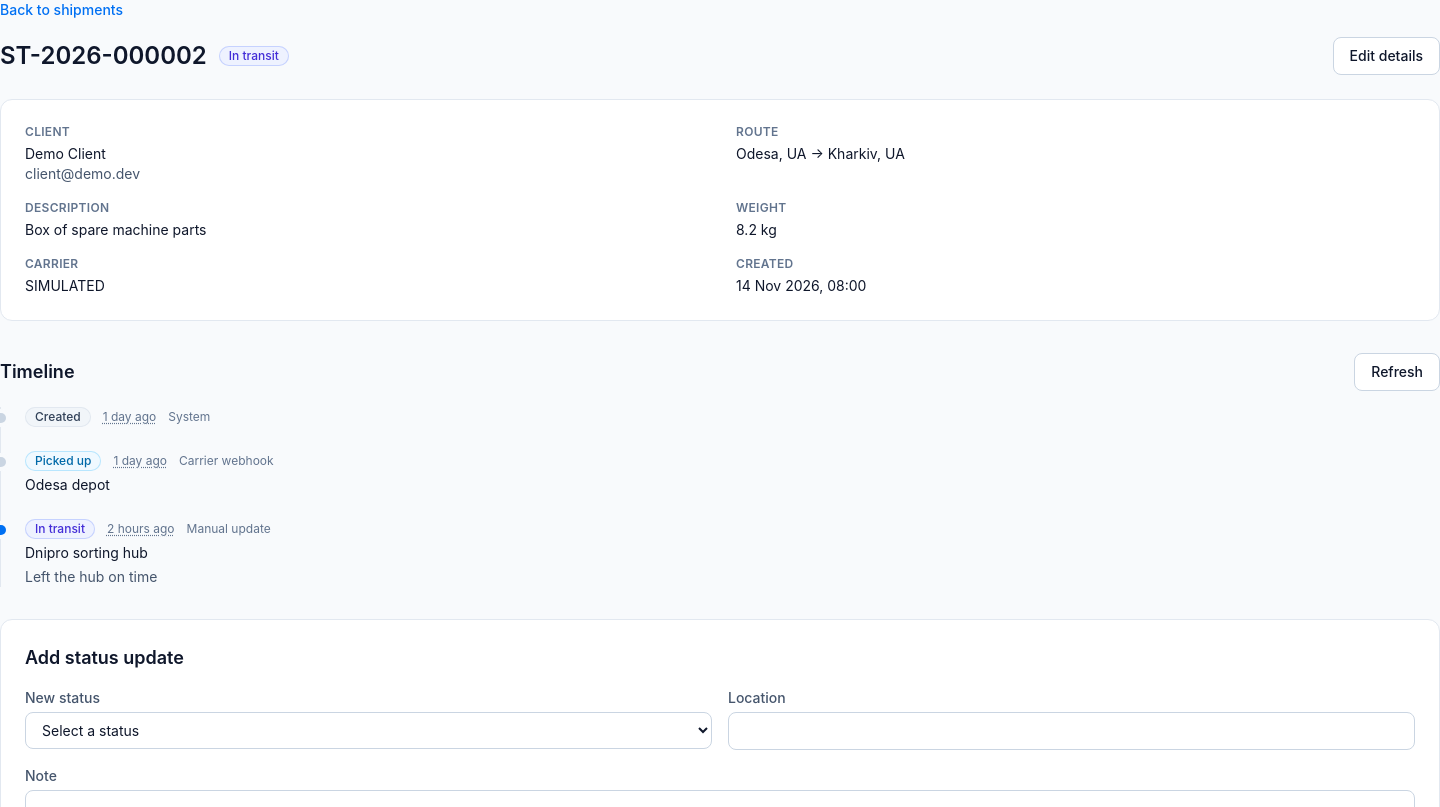
Test case: ShipmentDetailView — the status update form › adds the new entry from the response without refetching the detail
Expected: the heading "Add status update" is shown, [25,647,184,668]
Select "At warehouse" in the dropdown labelled "New status": (368, 730) [25,712,712,749]
(page scrolled)
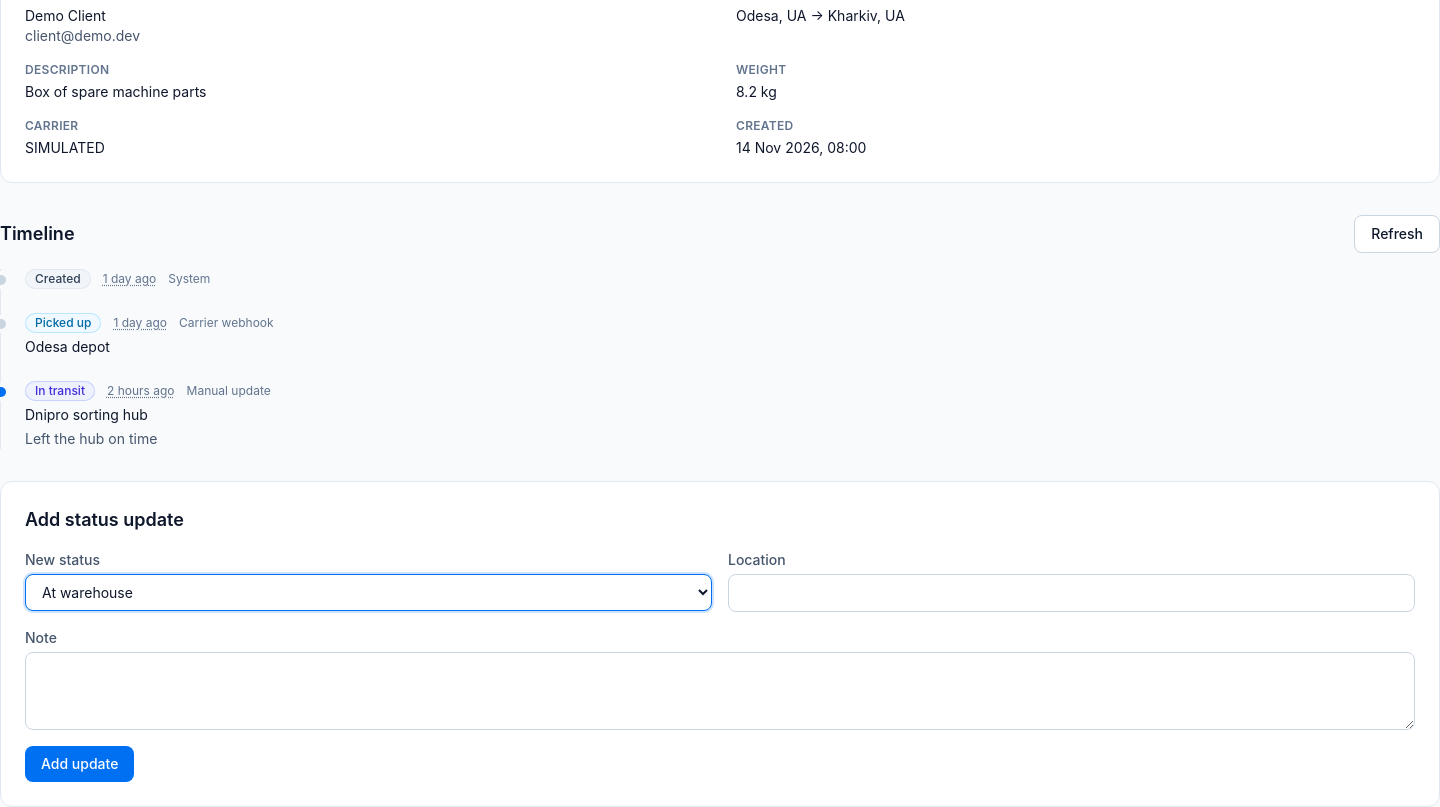
Click the button "Add update": click(80, 764) [25,746,134,782]
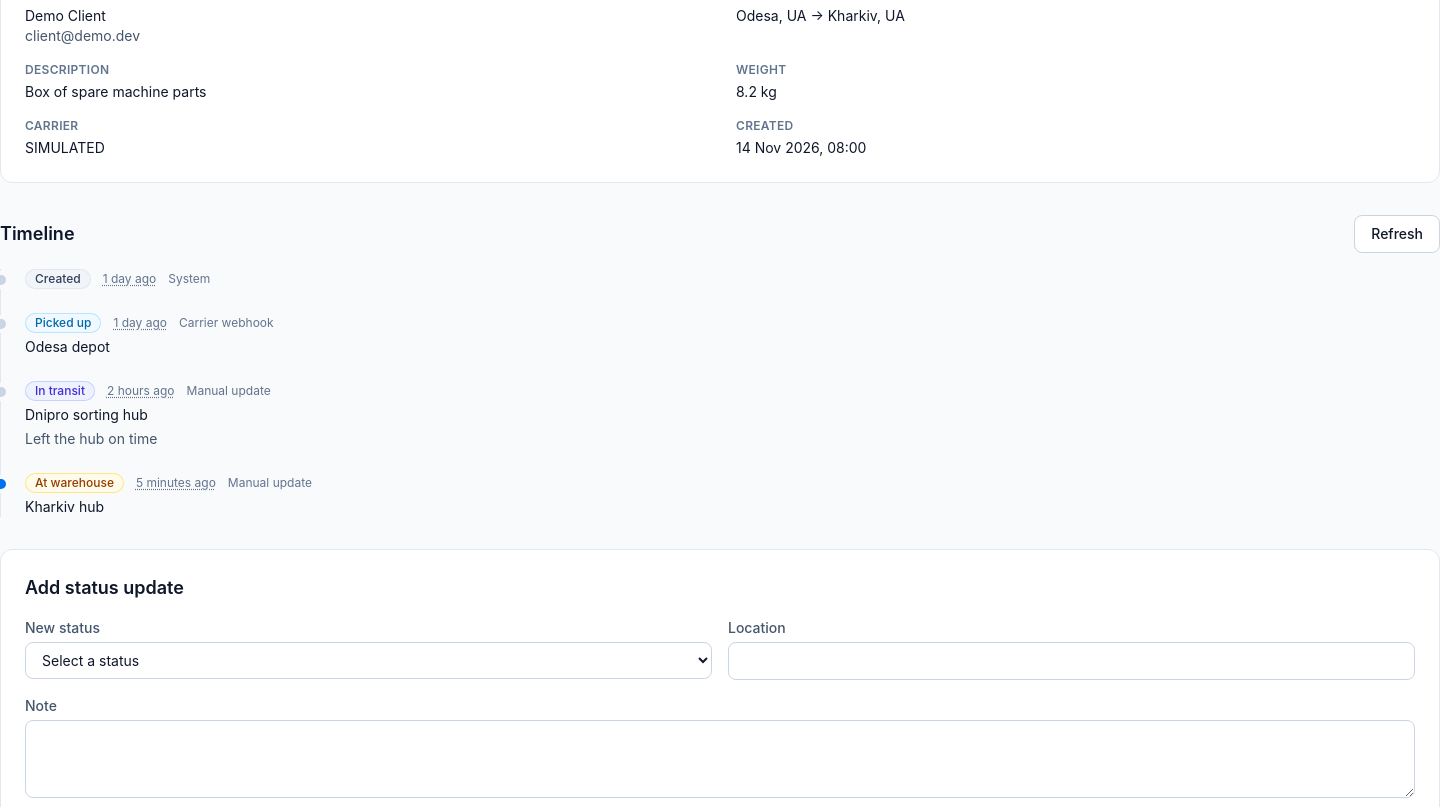
Expected: the number of list items is 4, [25,269,210,289]; [25,313,274,355]; [25,381,271,447]; [25,473,312,515]
Expected: the list item "At warehouse 5 minutes ago Manual update Kharkiv hub" is shown, [25,473,312,515]
Expected: the text "At warehouse" is shown, [25,473,124,493]
